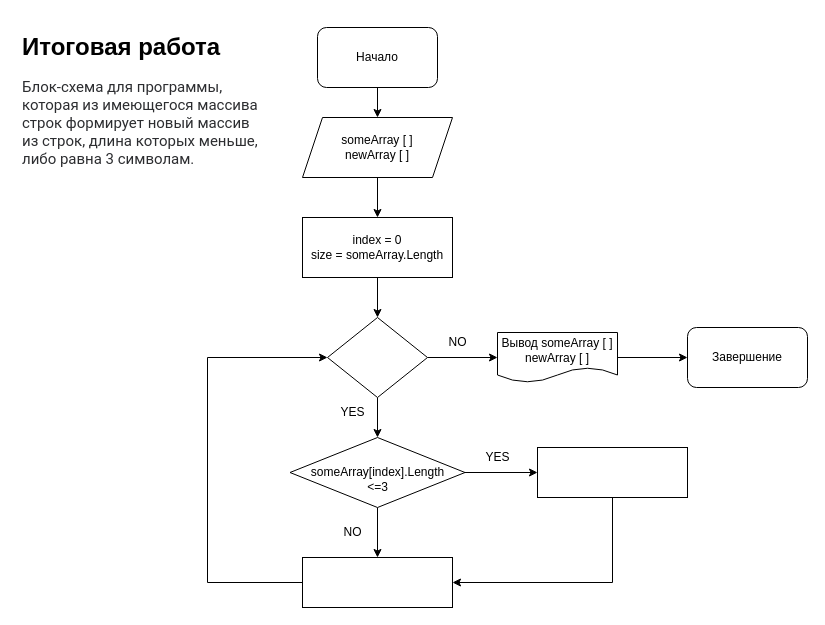
This 825x625 diagram has some shape labels left out. Here are the shapes that lost their labels. From the top down, the centre of each, then its label:
(x=377, y=357): index < size
(x=612, y=472): newArray [index] = someArray [index]
(x=377, y=582): index = index + 1
